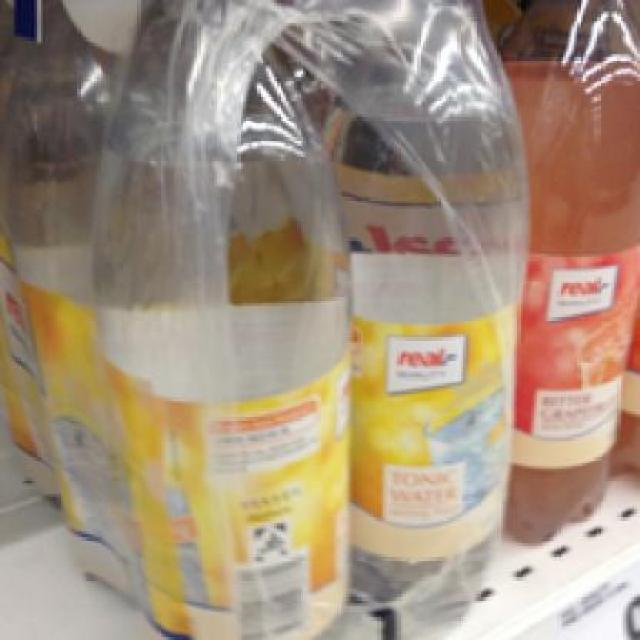Soda: (81, 0, 349, 635), (326, 0, 526, 620), (492, 0, 638, 543)
